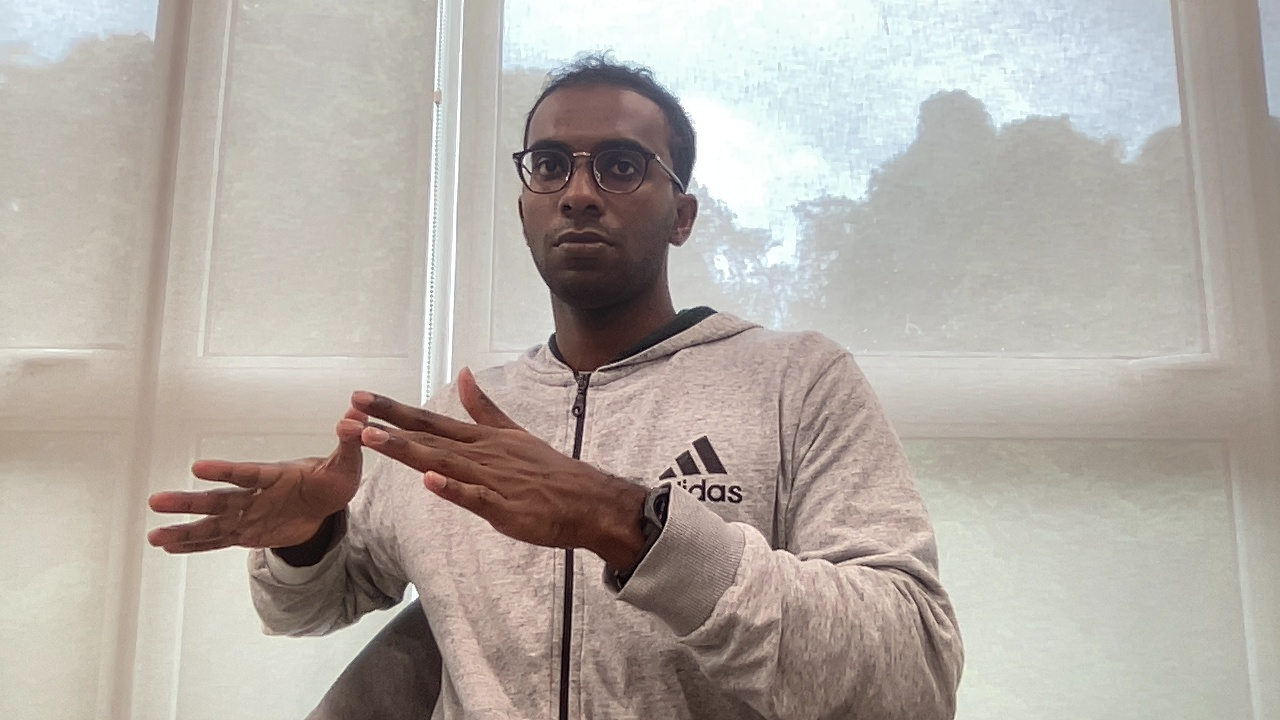finish: (134, 356, 611, 564)
